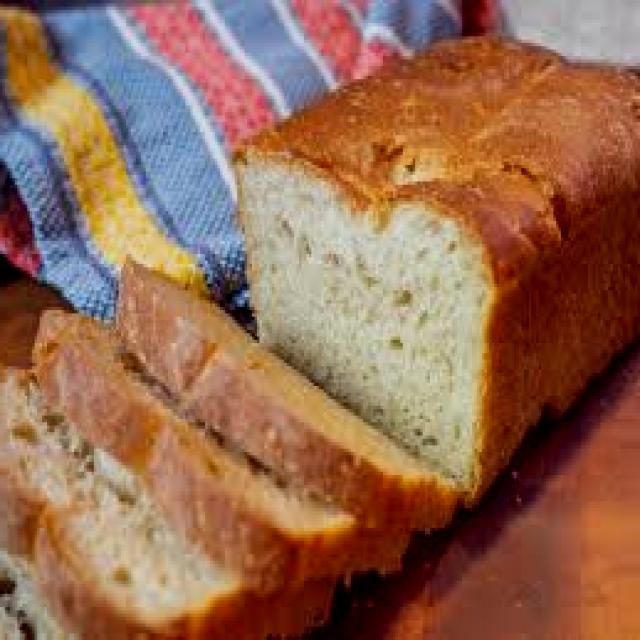wet: (241, 83, 640, 409), (17, 316, 396, 639), (266, 44, 565, 193)
